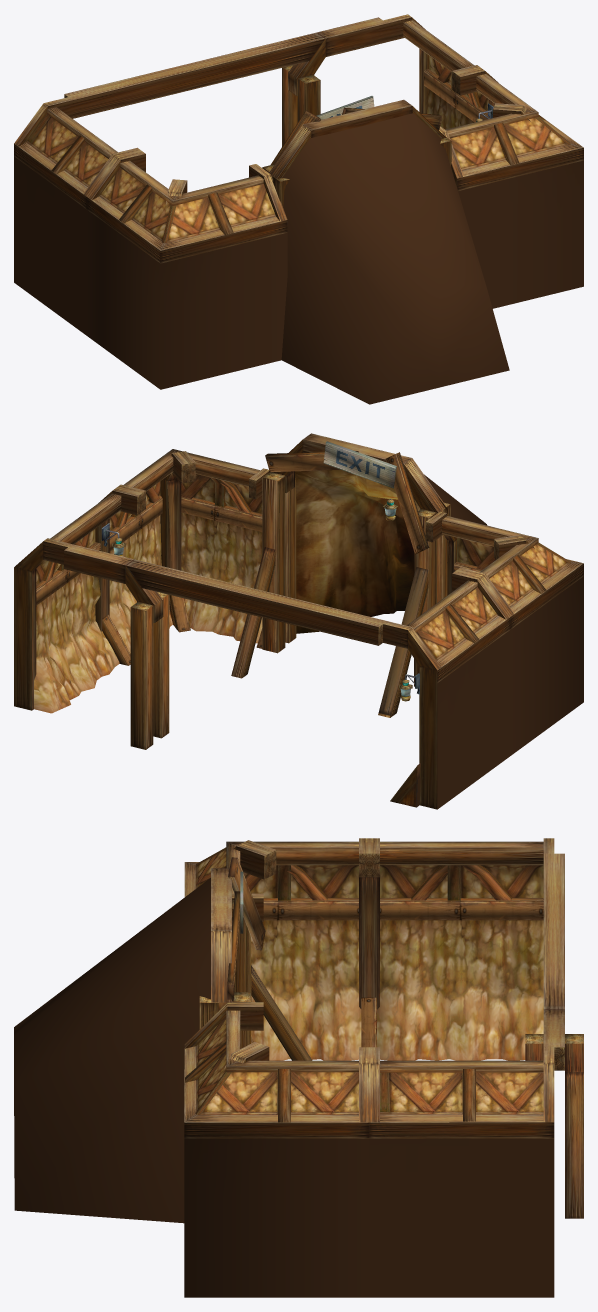
The model's file is a_SWGucave01.glb.
The picture shows the model from 3 angles, top to bottom: view 1: azimuth 30°, elevation 25°; view 2: azimuth 150°, elevation 25°; view 3: azimuth 270°, elevation 25°; orthographic projection. The views are drawn at different scales.
Visible parts, largest first — view 1: a_SWGucave01; view 2: a_SWGucave01; view 3: a_SWGucave01.
Boxes of the visible parts, box(x1,y1,x2,y2) form: a_SWGucave01: box(14, 14, 583, 404); a_SWGucave01: box(14, 433, 583, 809); a_SWGucave01: box(14, 838, 583, 1297).
Bounding box in the file's own units: 10.01 × 5.07 × 9.25.
Materials: 4 (4 with a texture image).
